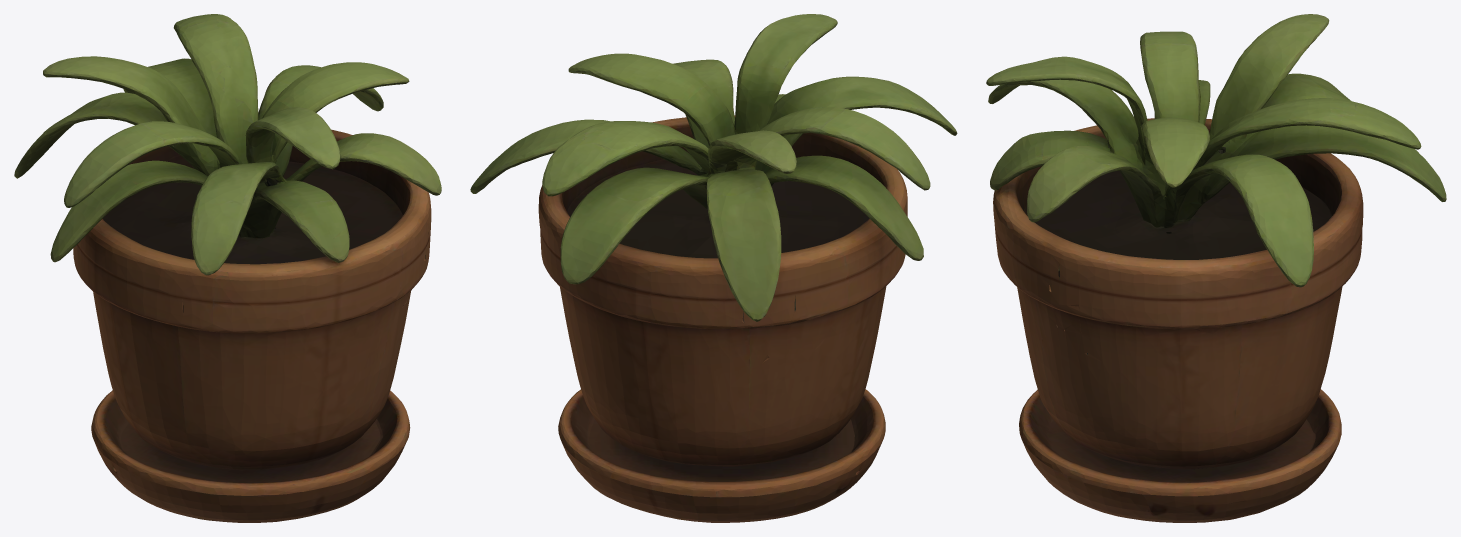
File: item_potted_plant.glb
3 renders of one model, left to right at view 1: azimuth 30°, elevation 25°; view 2: azimuth 150°, elevation 25°; view 3: azimuth 270°, elevation 25°, orthographic.
Parts seen in each view (by area): view 1: geometry_0; view 2: geometry_0; view 3: geometry_0.
Part boxes in pixels (<box>): geometry_0: <box>14,14,441,522</box>; geometry_0: <box>470,14,957,522</box>; geometry_0: <box>986,14,1446,522</box>.
Bounding box in the file's own units: 0.9828 × 0.9567 × 1.
Materials: 1 (1 with a texture image).
